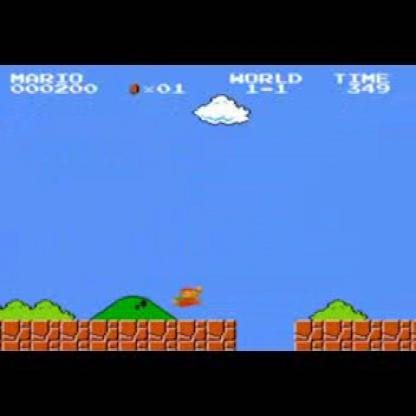Hoyo: (230, 316, 298, 351)
